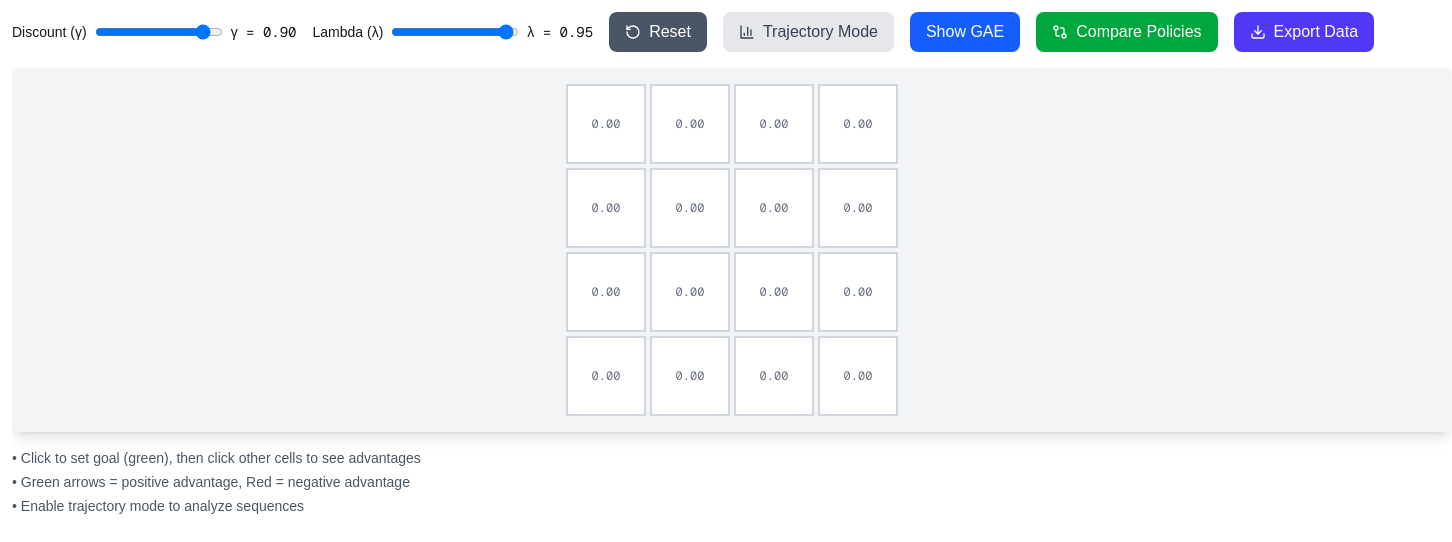
Test: AdvantageFunctionVisualizer Component › should show Q-values for selected state
# First set a goal
Click the element with test id "advantage-cell-3-3" at (858, 376), box [818,336,898,416]
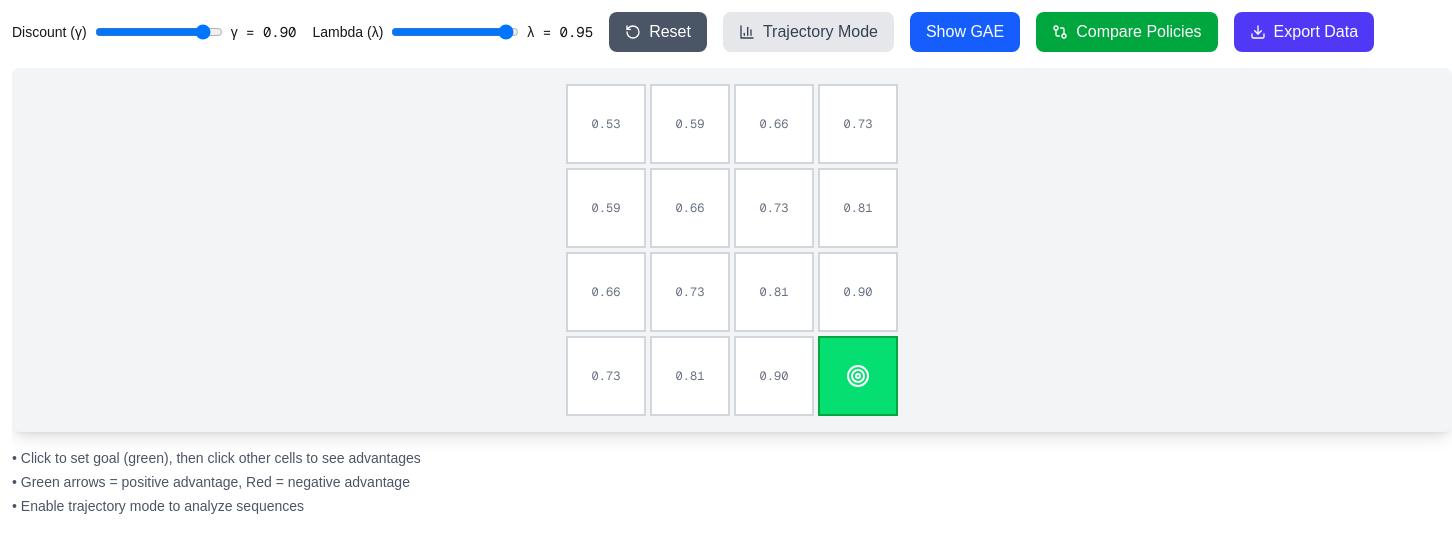
# Then select another cell
Click the element with test id "advantage-cell-2-2" at (774, 292), box [734,252,814,332]
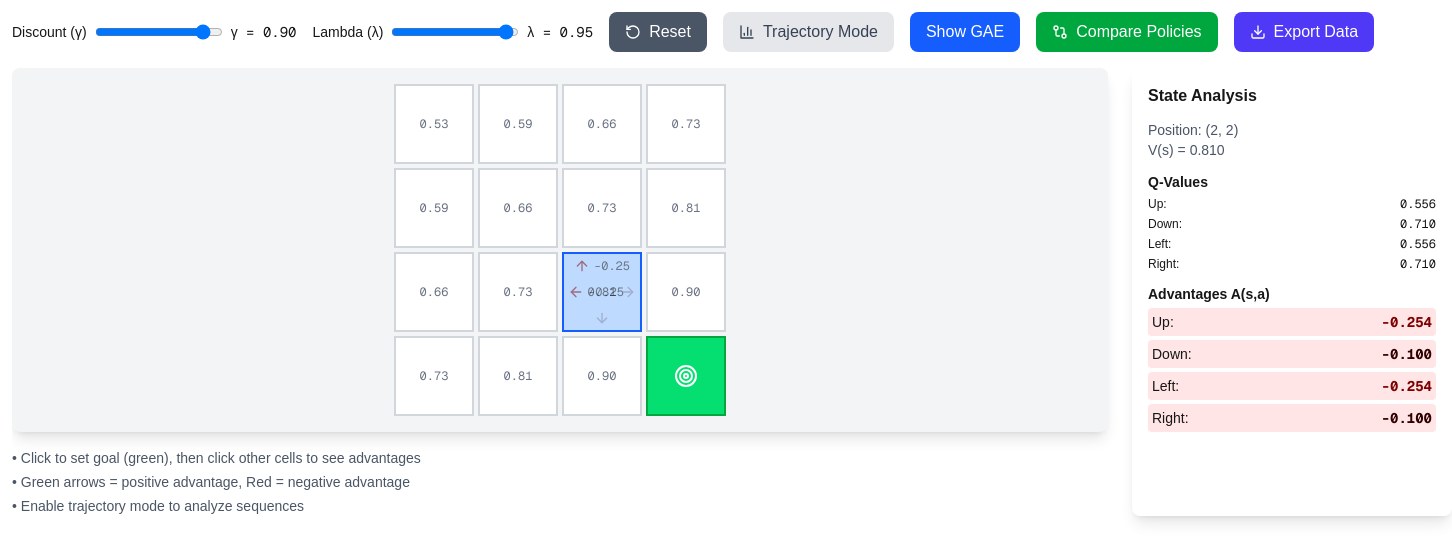
Result: the heading "Q-Values" is shown at [1148,174,1208,190]
